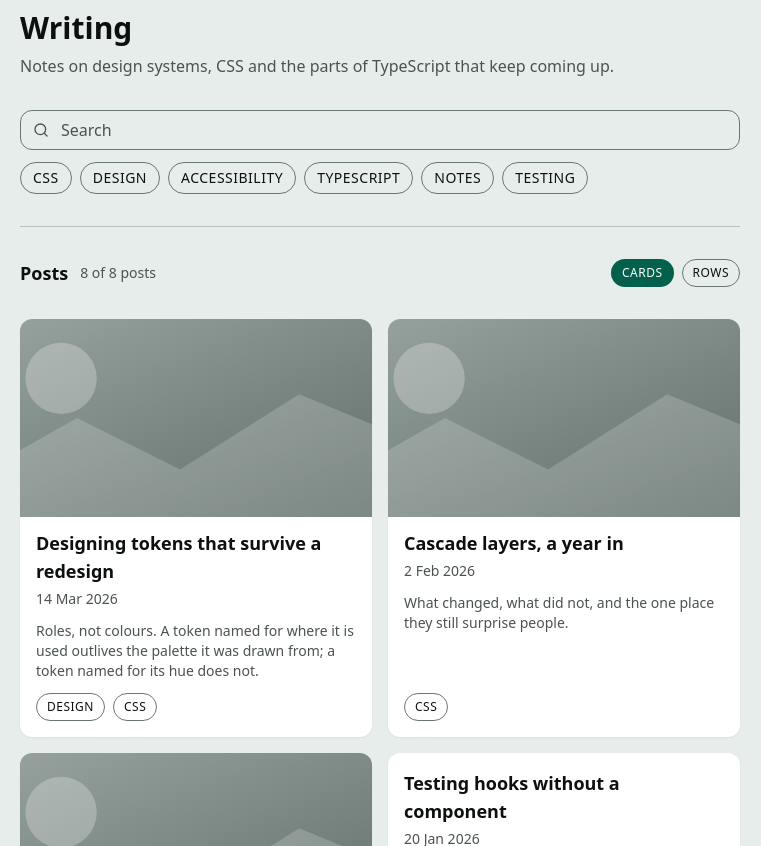
Test: the kitchen sink › the layout choice swaps cards for rows without touching the filter
The image size is (761, 846).
Click the 1st button "css".
click(46, 178)  # box [20,162,72,194]
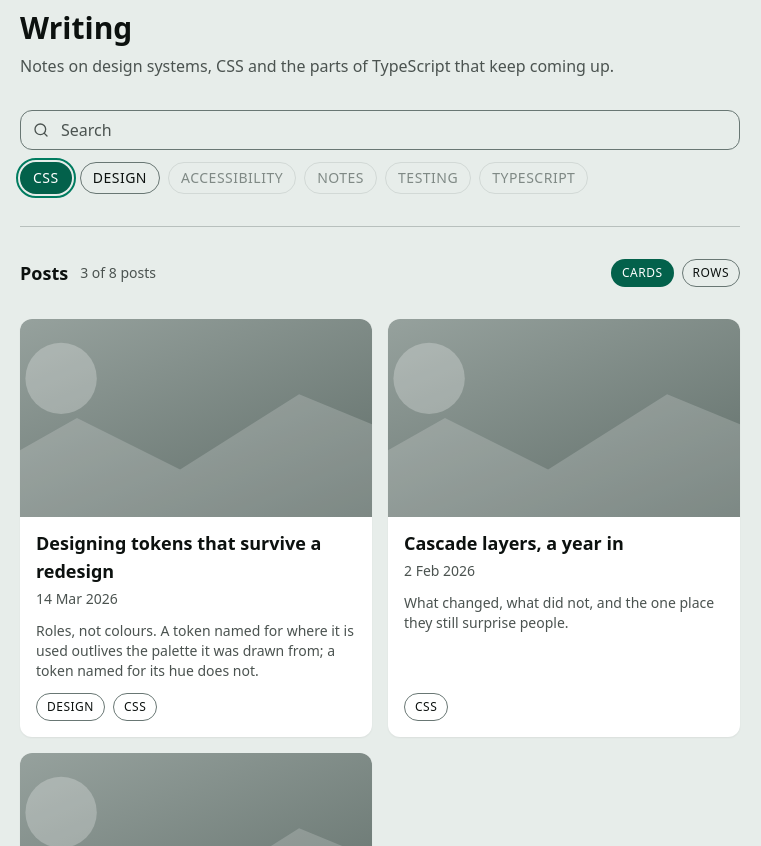
Click the button "Rows".
click(711, 273)  # box [682,259,740,287]
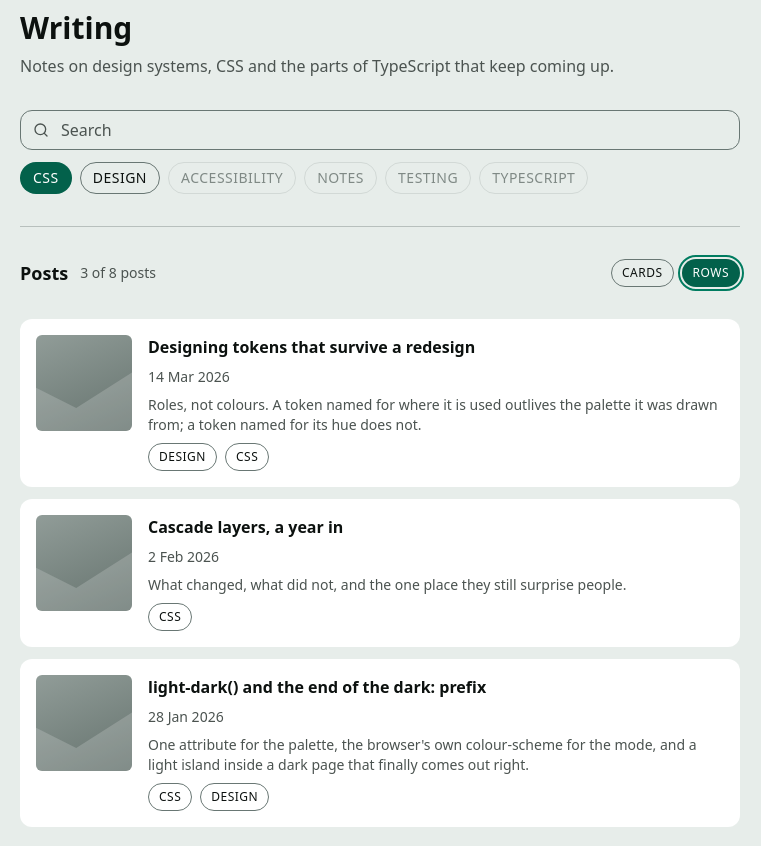
Check: the text "3 of 8 posts" is shown, box [80,263,156,283]
Check: the number of list items is 3, box [20,319,740,487]; [20,499,740,647]; [20,659,740,827]
